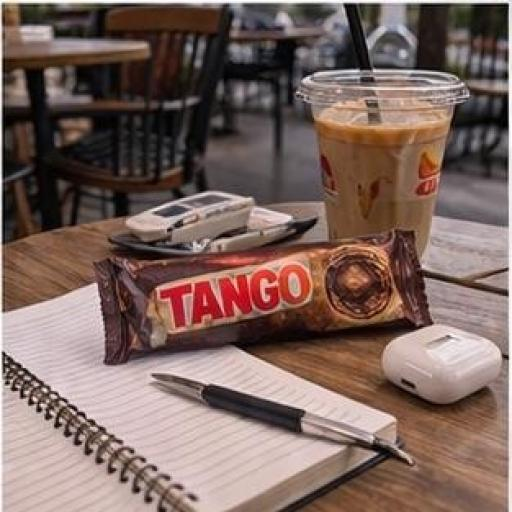tango: (58, 184, 444, 381)
